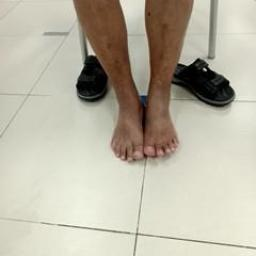Front View -Both Feet-: (91, 66, 194, 175)
